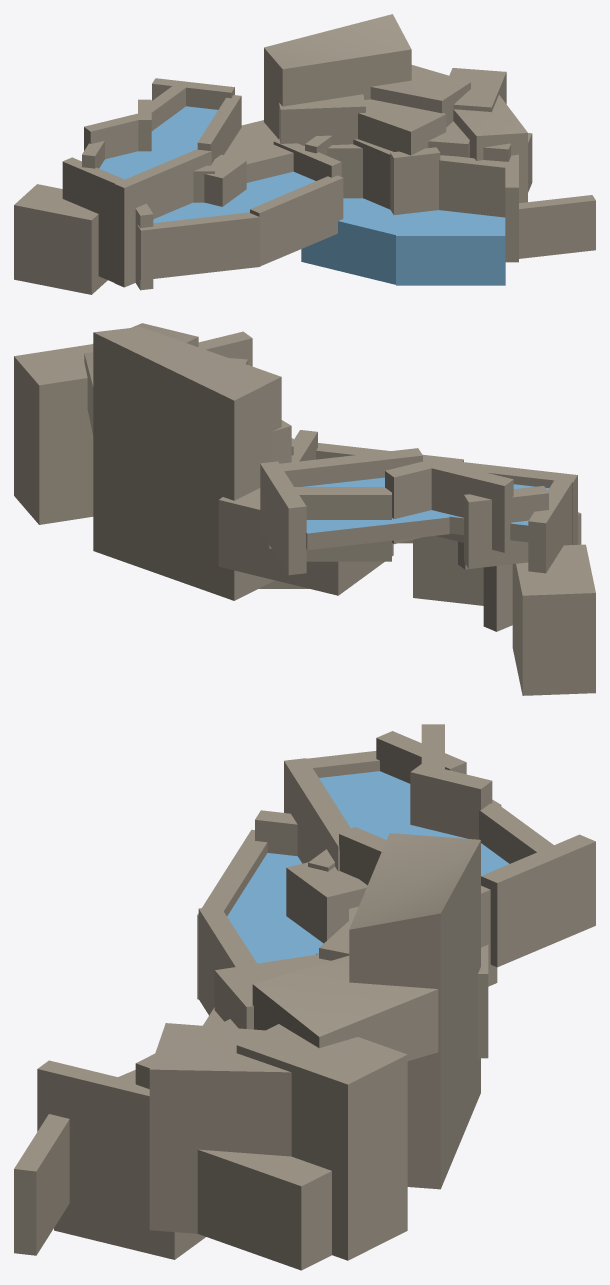
Rendered from Grot_WaterShelves.fbx.
The picture shows the model from 3 angles, top to bottom: view 1: azimuth 30°, elevation 25°; view 2: azimuth 150°, elevation 25°; view 3: azimuth 270°, elevation 25°; orthographic projection. The views are drawn at different scales.
Parts seen in each view (by area): view 1: WaterShelves.001; view 2: WaterShelves.001; view 3: WaterShelves.001.
Part boxes in pixels (x1=…): WaterShelves.001: x1=14, y1=14, x2=595, y2=294; WaterShelves.001: x1=14, y1=323, x2=595, y2=695; WaterShelves.001: x1=14, y1=724, x2=595, y2=1270.
Bounding box in the file's own units: 999 × 377 × 626.
